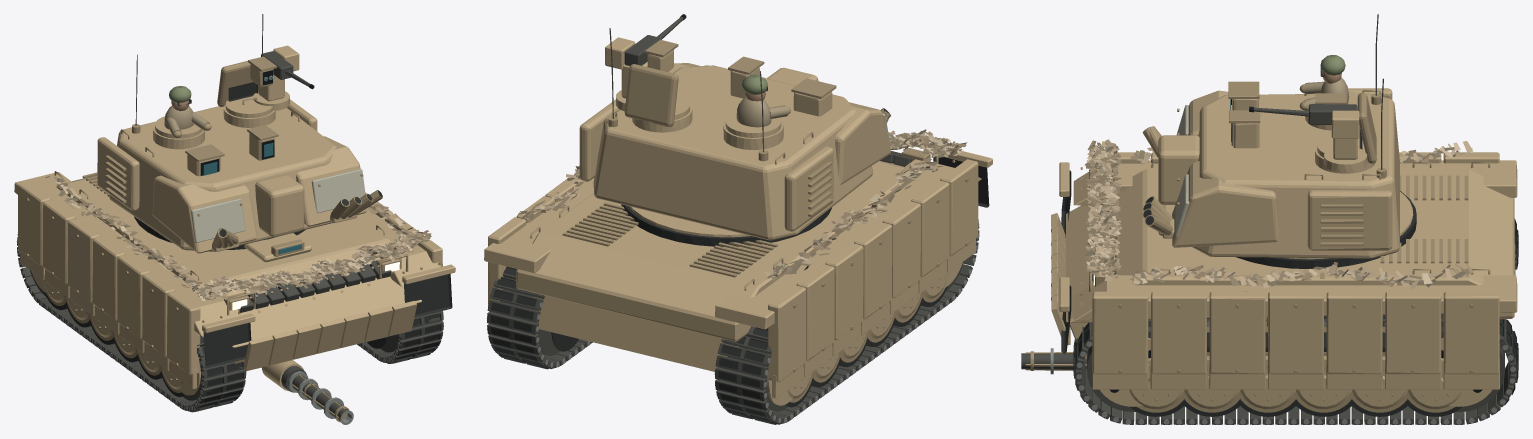
File: challenger.glb
3 renders of one model, left to right at view 1: azimuth 30°, elevation 25°; view 2: azimuth 150°, elevation 25°; view 3: azimuth 270°, elevation 25°, orthographic. The views are drawn at different scales.
Parts seen in each view (by area): view 1: body, turret, tracks, cannon; view 2: body, turret, tracks; view 3: body, turret, tracks, cannon.
Part boxes in pixels (x1,y1,x2,y2): body: (14,86,455,389); turret: (97,14,382,253); tracks: (16,234,443,412); cannon: (262,360,353,424); body: (484,75,992,398); turret: (579,14,890,246); tracks: (487,219,979,424); body: (1051,55,1517,389); turret: (1142,14,1416,268); tracks: (1073,218,1518,424); cannon: (1021,348,1086,374).
Size of the model in its own units: 3.88 by 4.2 by 5.52.
